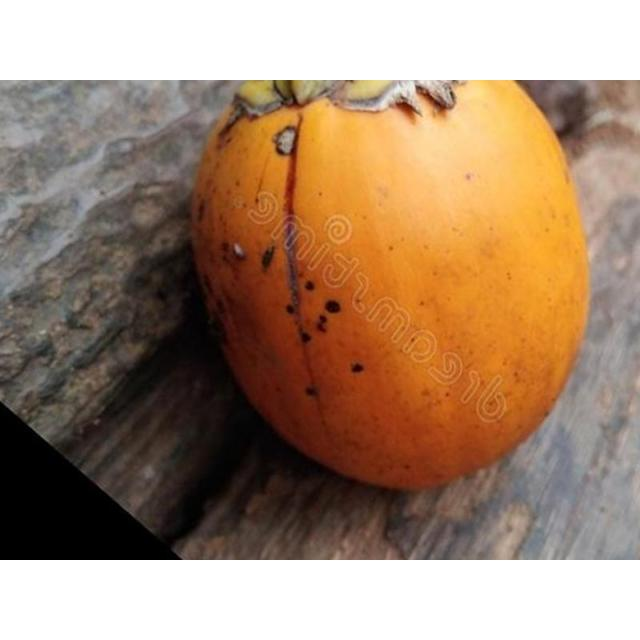good: (189, 80, 591, 494)
